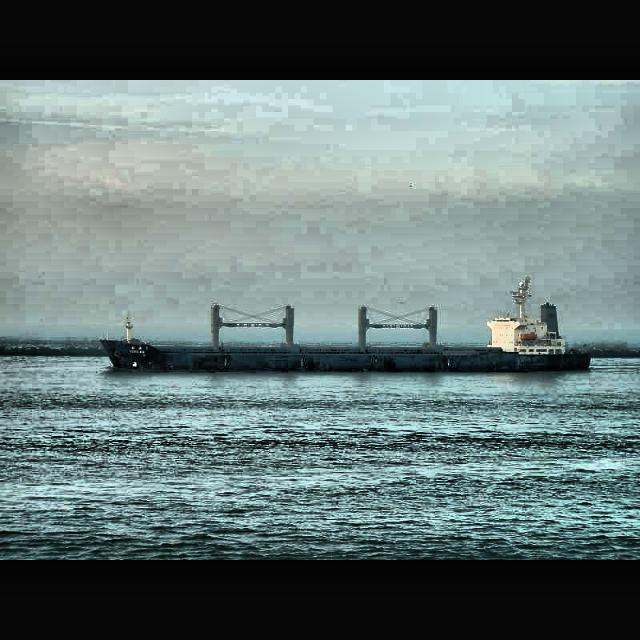bulk_carrier: (99, 277, 593, 373)
